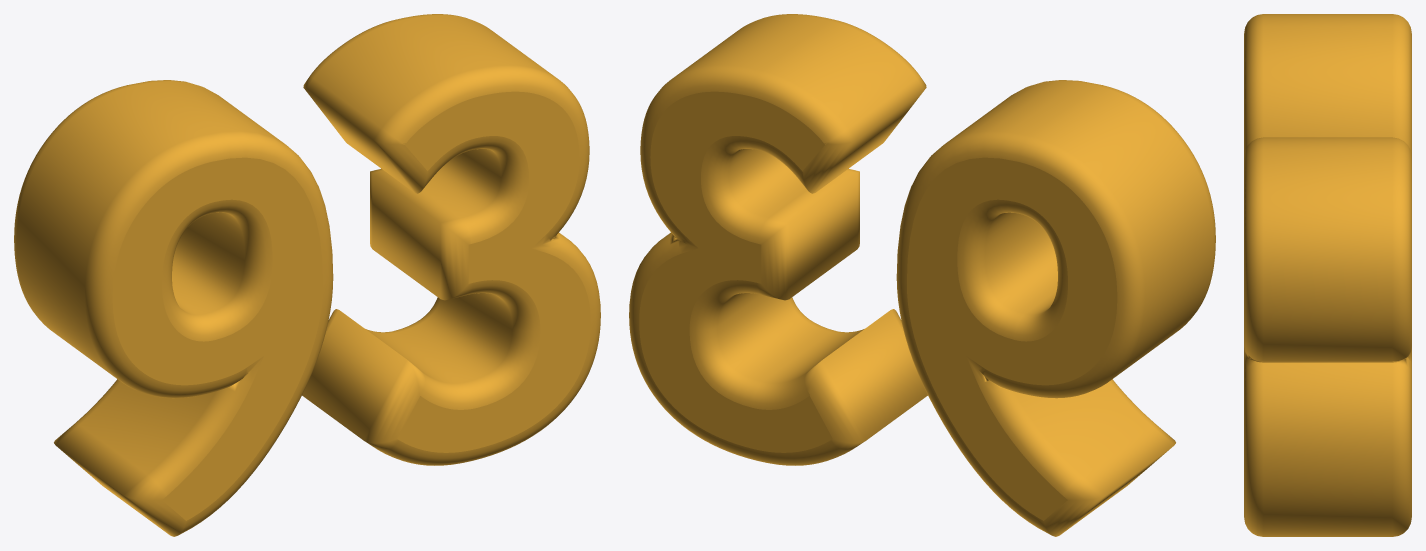
3 renders of one model, left to right at view 1: azimuth 30°, elevation 25°; view 2: azimuth 150°, elevation 25°; view 3: azimuth 270°, elevation 25°, orthographic. The views are drawn at different scales.
Parts seen in each view (by area): view 1: Text; view 2: Text; view 3: Text.
Part boxes in pixels (x1,y1,x2,y2): Text: (14, 14, 600, 536); Text: (629, 14, 1215, 536); Text: (1244, 14, 1411, 536).
Bounding box in the file's own units: 87.09 × 63.6 × 26.
